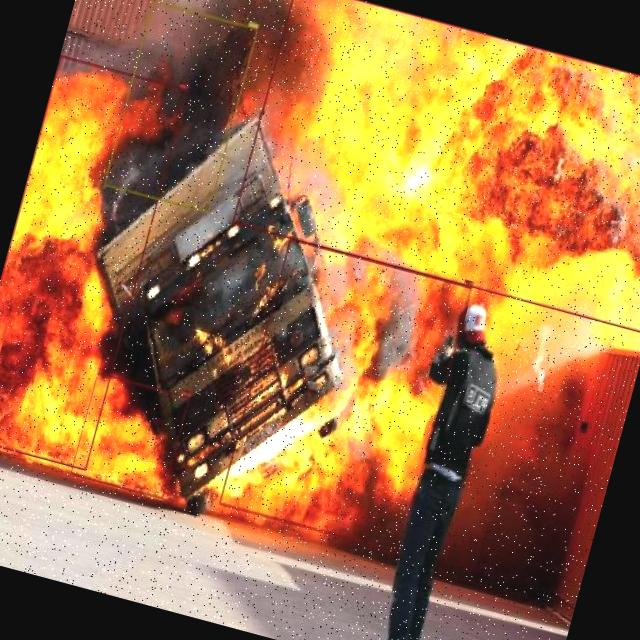smoke: (103, 0, 258, 214)
